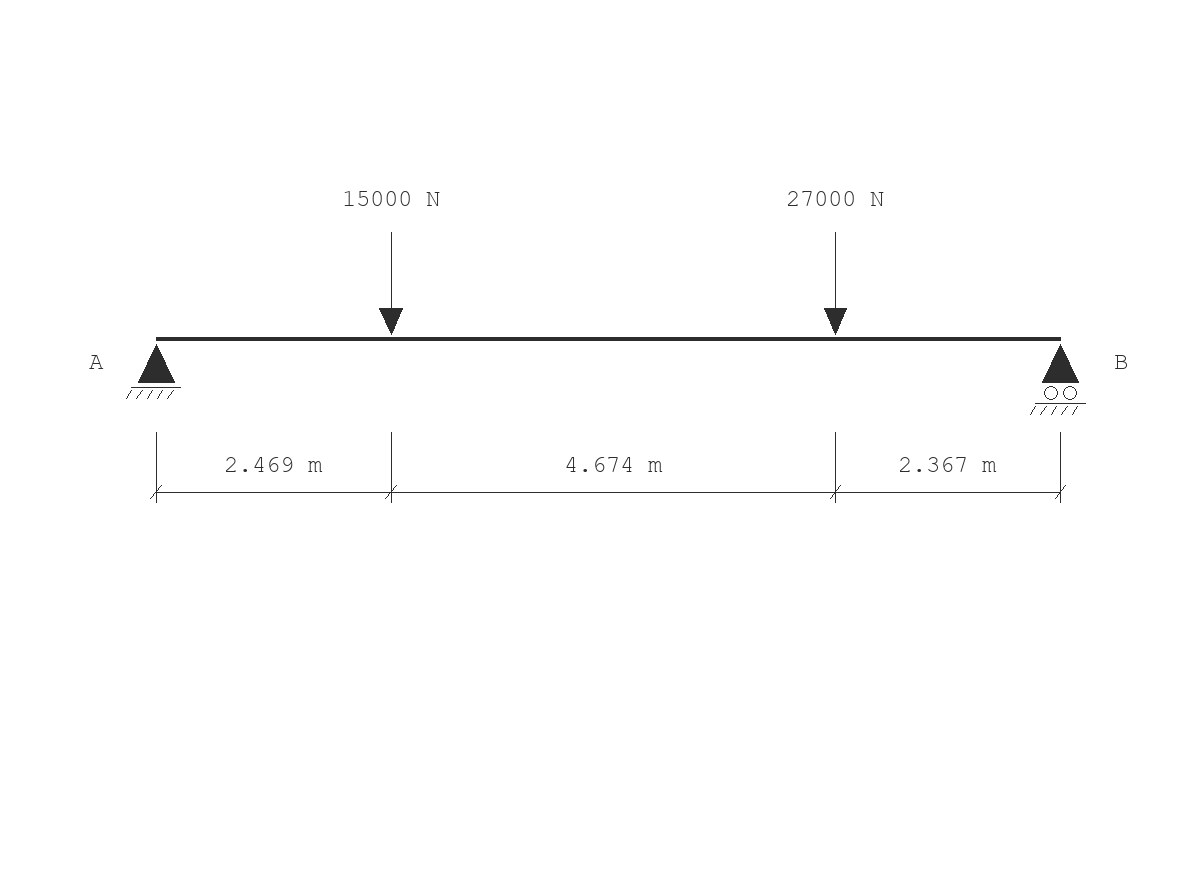pin_support: (126, 344, 181, 399)
point_load: (379, 232, 403, 335), (824, 232, 847, 335)
roller_support: (1030, 344, 1086, 415)
